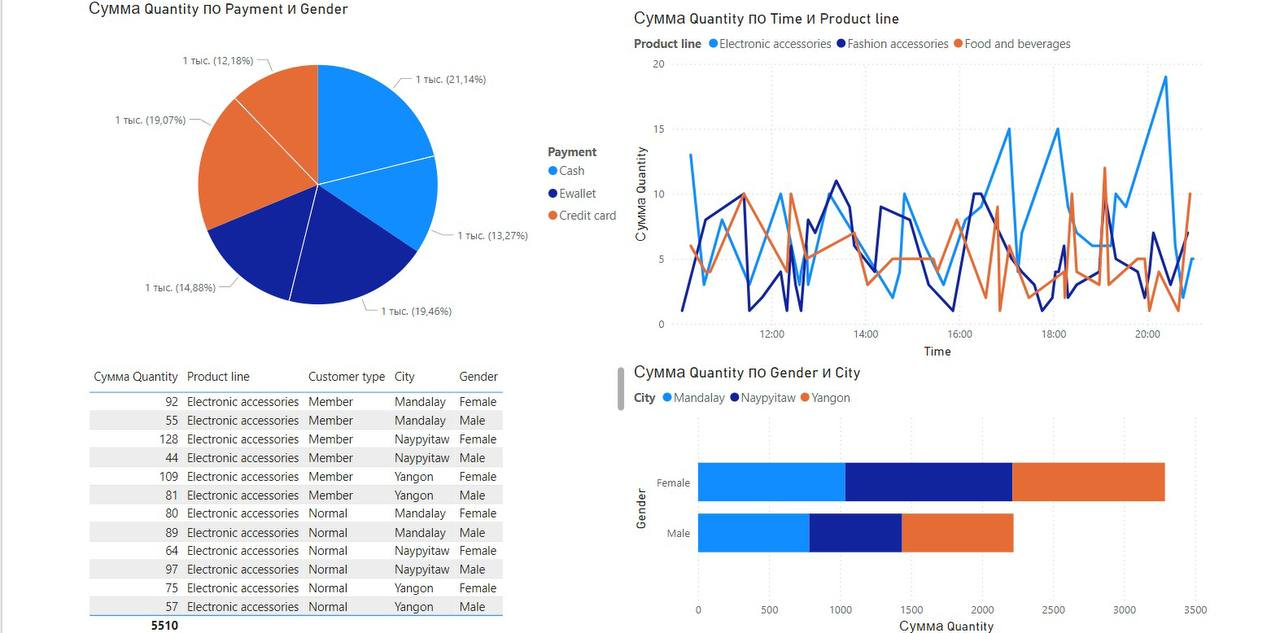

What the dashboard file says about the page in this screenshot:
{"tool":"powerbi","page":{"name":"Страница 1","canvas":[1280,720],"ordinal":0},"visuals":[{"type":"pieChart","fields":{"Y":["Sum(SuperMarket Analysis.Quantity)"],"Category":["SuperMarket Analysis.Payment"],"Series":["SuperMarket Analysis.Gender"]},"box":[10,0,614.6,399.3],"z":0},{"type":"tableEx","fields":{"Values":["Sum(SuperMarket Analysis.Quantity)","SuperMarket Analysis.Product line","SuperMarket Analysis.Customer type","SuperMarket Analysis.City","SuperMarket Analysis.Gender"]},"box":[10,409.3,614.6,310.9],"z":1},{"type":"lineChart","fields":{"Y":["Sum(SuperMarket Analysis.Quantity)"],"Category":["SuperMarket Analysis.Time"],"Series":["SuperMarket Analysis.Product line"]},"box":[624.6,10,656,399.3],"z":2},{"type":"barChart","fields":{"Y":["Sum(SuperMarket Analysis.Quantity)"],"Category":["SuperMarket Analysis.Gender"],"Series":["SuperMarket Analysis.City"]},"box":[624.6,409.3,656,310.9],"z":3}]}

Visuals, with their boxes on the page's 1280x720 design canvas (x1, y1, x2, y2). These are canvas units, not pixel positions in the 1280x633 screenshot, which may show the page scaled, cropped or inside an application window:
pieChart - Sum(SuperMarket Analysis.Quantity) x SuperMarket Analysis.Payment: 10,0,625,399
tableEx - Sum(SuperMarket Analysis.Quantity) x SuperMarket Analysis.Product line: 10,409,625,720
lineChart - Sum(SuperMarket Analysis.Quantity) x SuperMarket Analysis.Time: 625,10,1281,409
barChart - Sum(SuperMarket Analysis.Quantity) x SuperMarket Analysis.Gender: 625,409,1281,720
